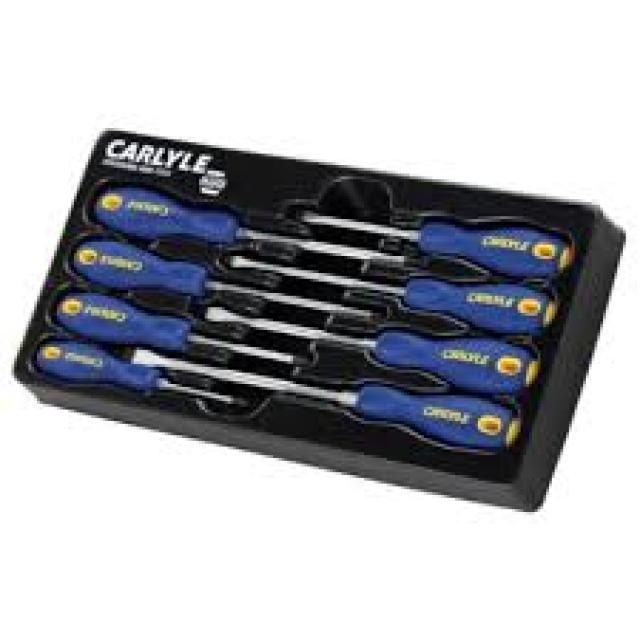screw driver: (290, 194, 584, 476)
